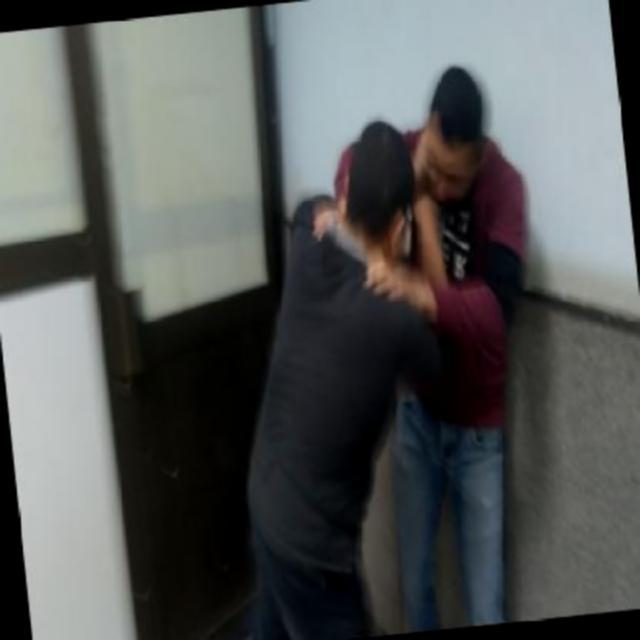fight: (251, 53, 564, 559)
